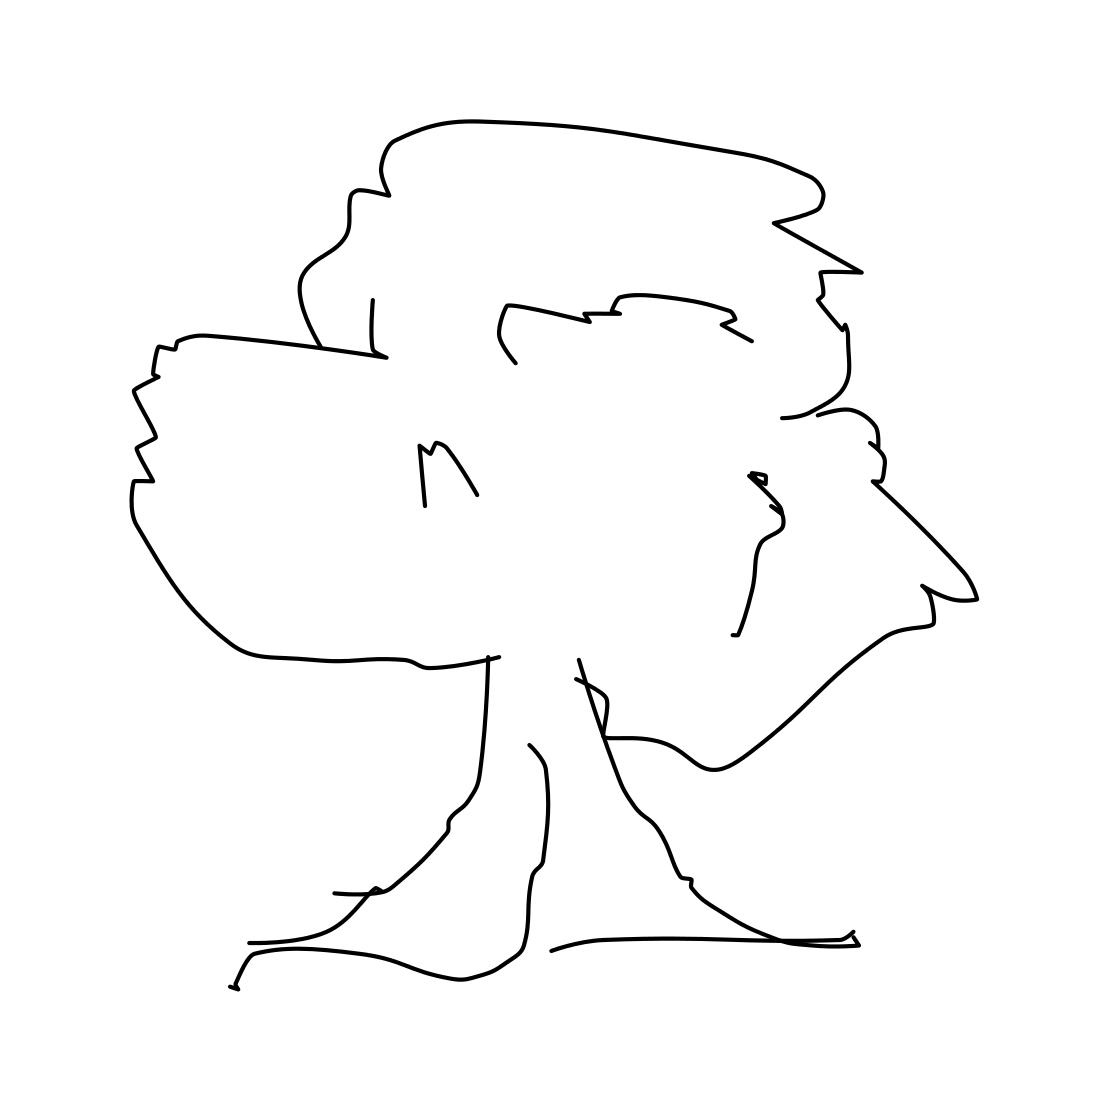Tree: (62, 80, 986, 976)
